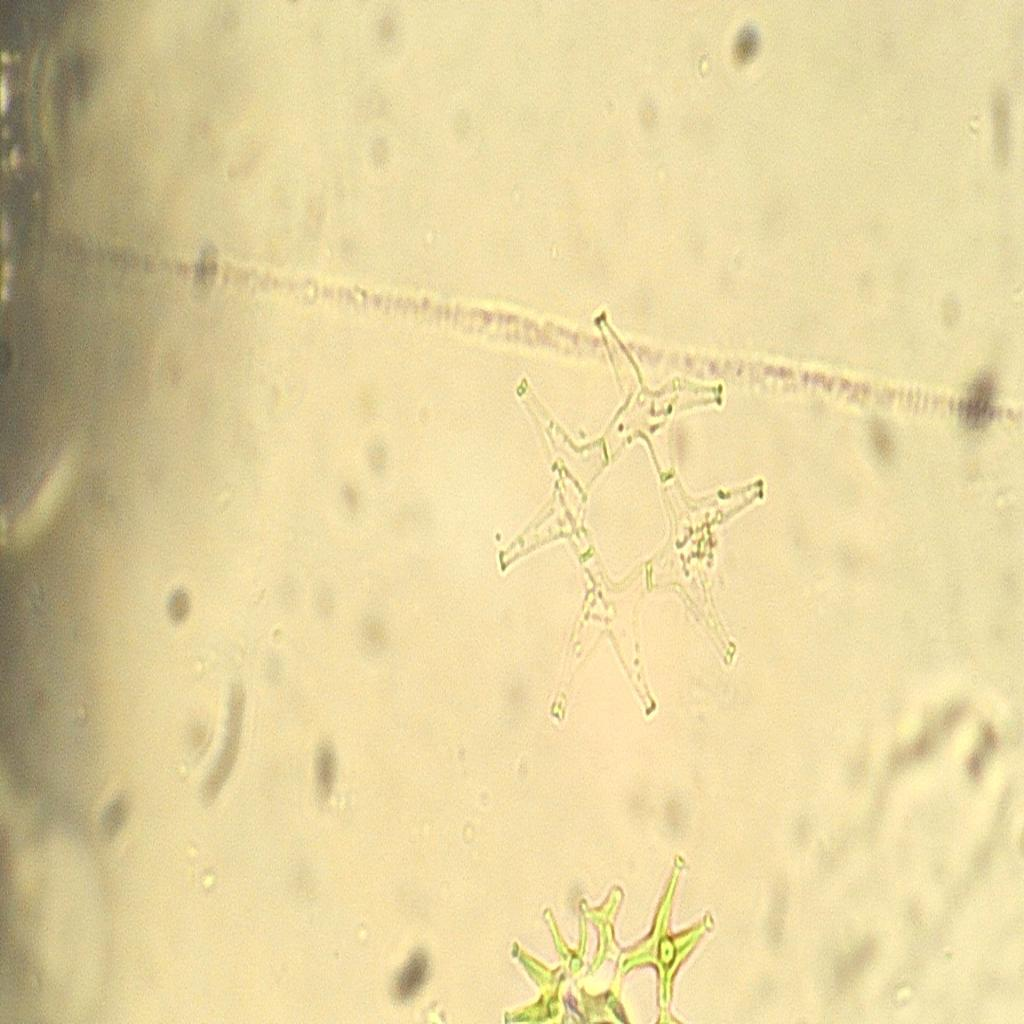Pediastrum_75TH: (489, 292, 773, 754)
